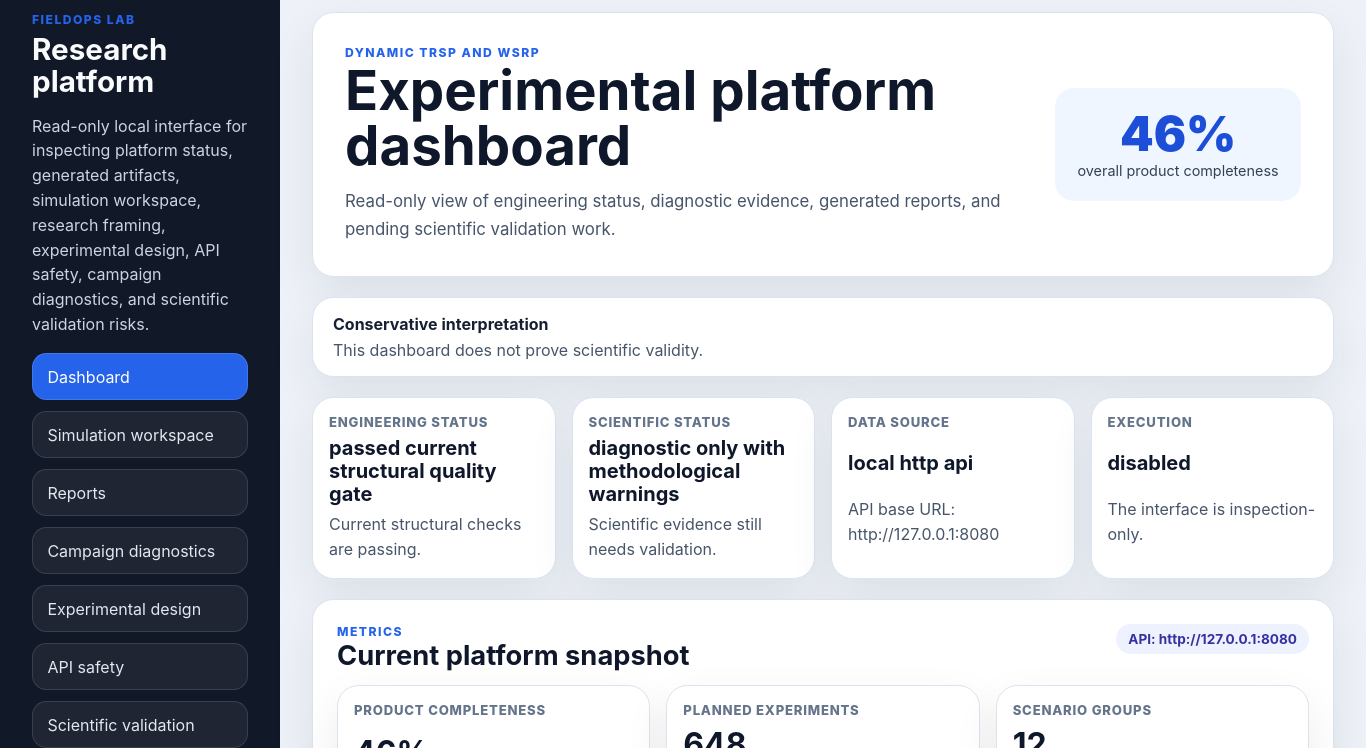
App dashboard › filters report catalog by campaign category and loads campaign detail
Expected: the heading "Experimental platform dashboard" is shown, [345,63,1023,172]
Click the button "Reports" at (140, 493), box [32,469,248,516]
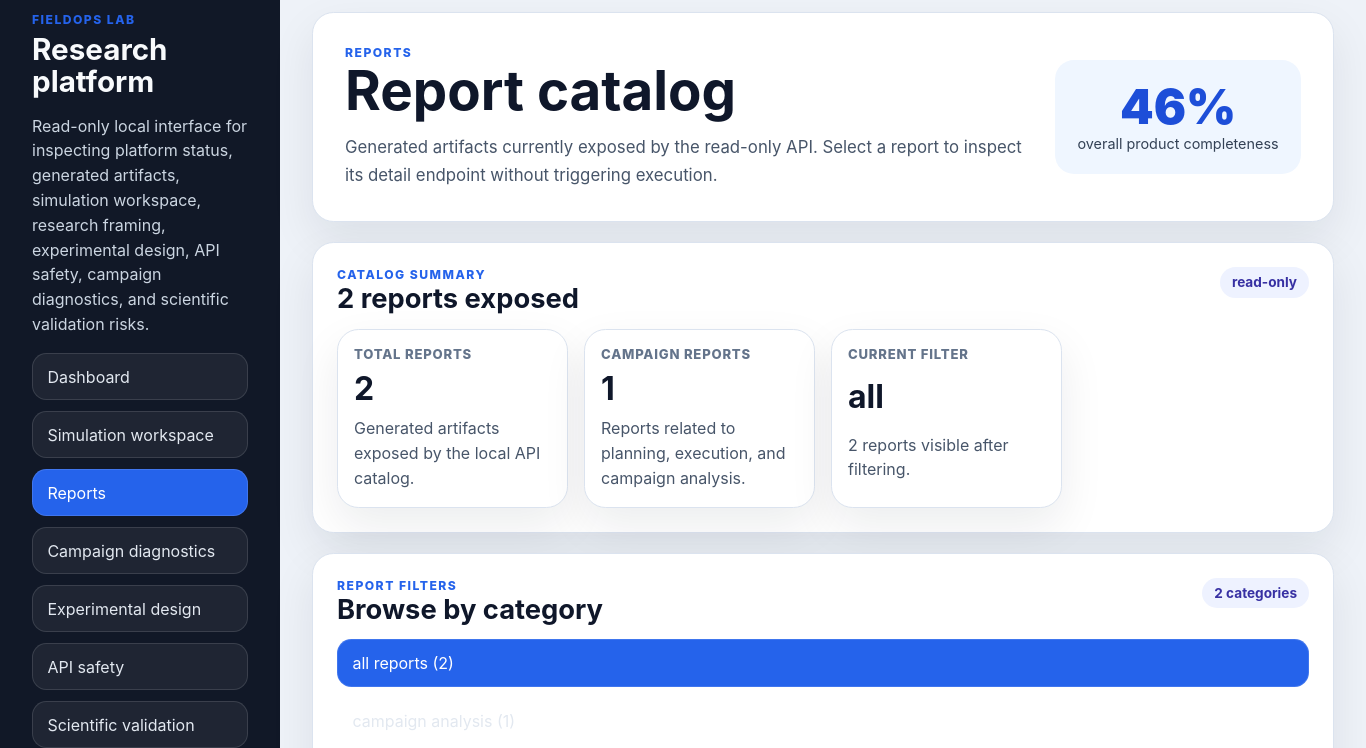
Expected: the heading "Browse by category" is shown, [337,596,603,623]
Click the button "campaign analysis (1)" at (422, 721), box [337,697,1309,745]
(page scrolled)
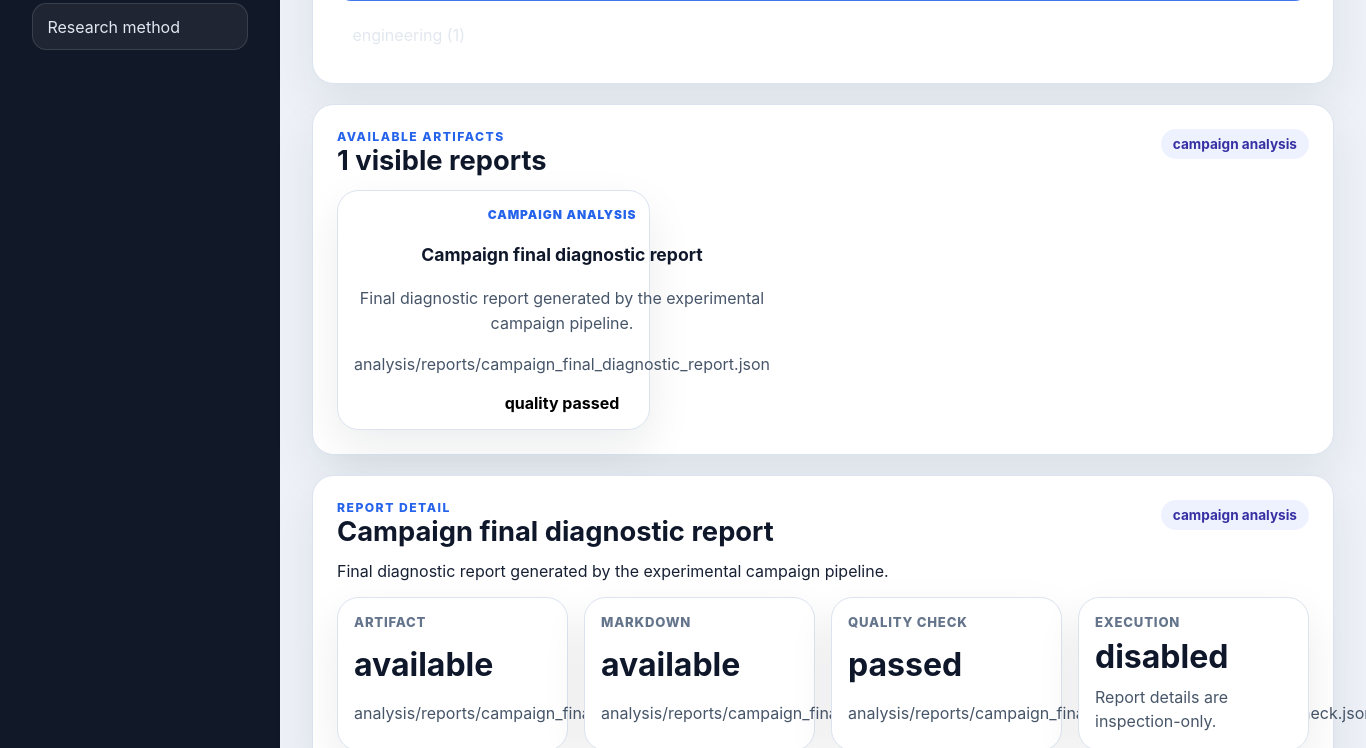
Expected: the heading "Campaign final diagnostic report" below "visible reports" is shown, [421,244,703,265]
Expected: the text "analysis/reports/campaign_final_diagnostic_report.json" below "visible reports" is shown, [354,354,770,374]
Expected: the heading "1 visible reports" is shown, [337,147,546,174]
